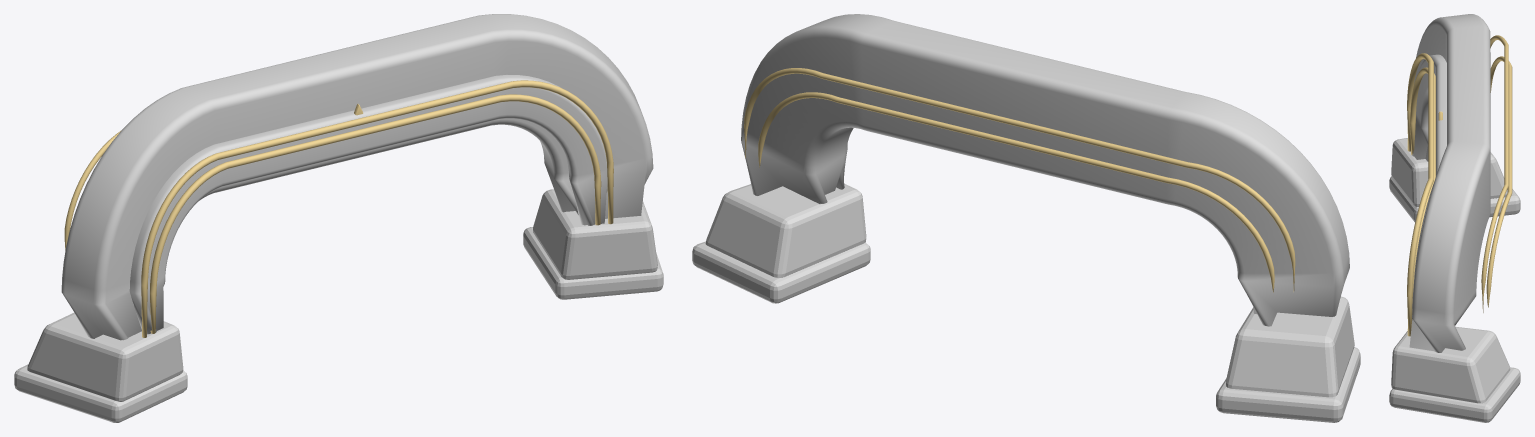
Rendered from arena_football_goal_curved.glb.
The picture shows the model from 3 angles, left to right: view 1: azimuth 30°, elevation 25°; view 2: azimuth 150°, elevation 25°; view 3: azimuth 270°, elevation 25°; orthographic projection. The views are drawn at different scales.
Visible parts, largest first — view 1: AF_Goal_MainFrame, AF_Goal_InnerFrame, AF_Goal_Base_L, AF_Goal_Base_R, AF_Goal_GoldOuter, AF_Goal_GoldInner, AF_Goal_GoldBackOuter; view 2: AF_Goal_MainFrame, AF_Goal_Base_R, AF_Goal_Base_L, AF_Goal_GoldBackOuter, AF_Goal_GoldBackInner; view 3: AF_Goal_MainFrame, AF_Goal_Base_R, AF_Goal_Base_L, AF_Goal_InnerFrame, AF_Goal_GoldOuter, AF_Goal_GoldBackOuter, AF_Goal_GoldBackInner, AF_Goal_GoldInner.
Part boxes in pixels (x1=…): AF_Goal_MainFrame: x1=61, y1=14, x2=653, y2=340; AF_Goal_InnerFrame: x1=129, y1=75, x2=607, y2=334; AF_Goal_Base_L: x1=14, y1=312, x2=187, y2=422; AF_Goal_Base_R: x1=523, y1=189, x2=663, y2=299; AF_Goal_GoldOuter: x1=141, y1=80, x2=613, y2=337; AF_Goal_GoldInner: x1=150, y1=94, x2=601, y2=333; AF_Goal_GoldBackOuter: x1=64, y1=130, x2=121, y2=250; AF_Goal_MainFrame: x1=741, y1=14, x2=1349, y2=326; AF_Goal_Base_R: x1=692, y1=183, x2=870, y2=303; AF_Goal_Base_L: x1=1216, y1=296, x2=1360, y2=422; AF_Goal_GoldBackOuter: x1=744, y1=68, x2=1295, y2=291; AF_Goal_GoldBackInner: x1=758, y1=92, x2=1274, y2=292; AF_Goal_MainFrame: x1=1409, y1=14, x2=1490, y2=352; AF_Goal_Base_R: x1=1389, y1=326, x2=1520, y2=422; AF_Goal_Base_L: x1=1389, y1=138, x2=1520, y2=222; AF_Goal_InnerFrame: x1=1411, y1=54, x2=1446, y2=280; AF_Goal_GoldOuter: x1=1407, y1=53, x2=1433, y2=336; AF_Goal_GoldBackOuter: x1=1481, y1=35, x2=1508, y2=312; AF_Goal_GoldBackInner: x1=1486, y1=56, x2=1512, y2=307; AF_Goal_GoldInner: x1=1410, y1=67, x2=1435, y2=320.
Bounding box in the file's own units: 5.63 × 2.26 × 1.25.
